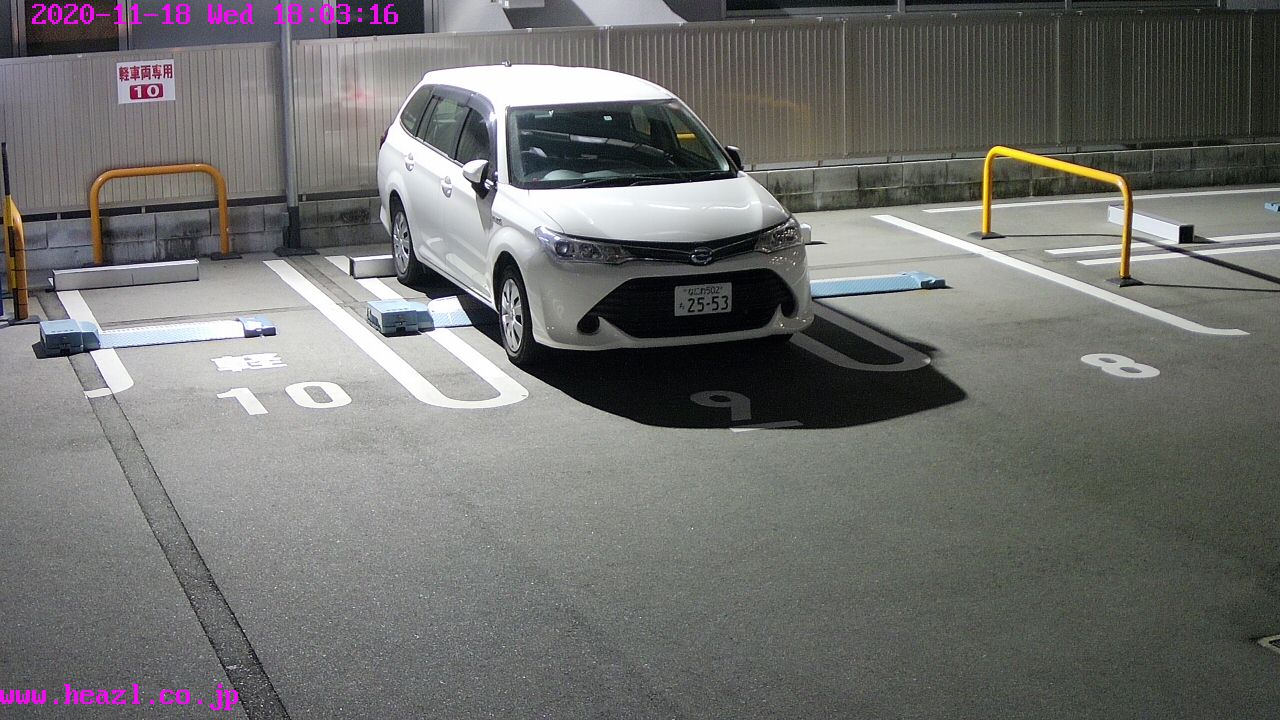number_plate: (673, 282, 736, 316)
